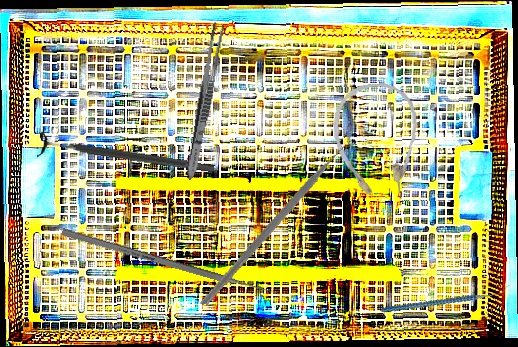Cannula: (329, 80, 424, 205)
Chopper: (199, 124, 365, 327), (381, 261, 510, 336)
Dressing Forceps: (183, 20, 226, 182)
Fixation Ring: (36, 129, 217, 184)
Pusher: (61, 228, 280, 298)
